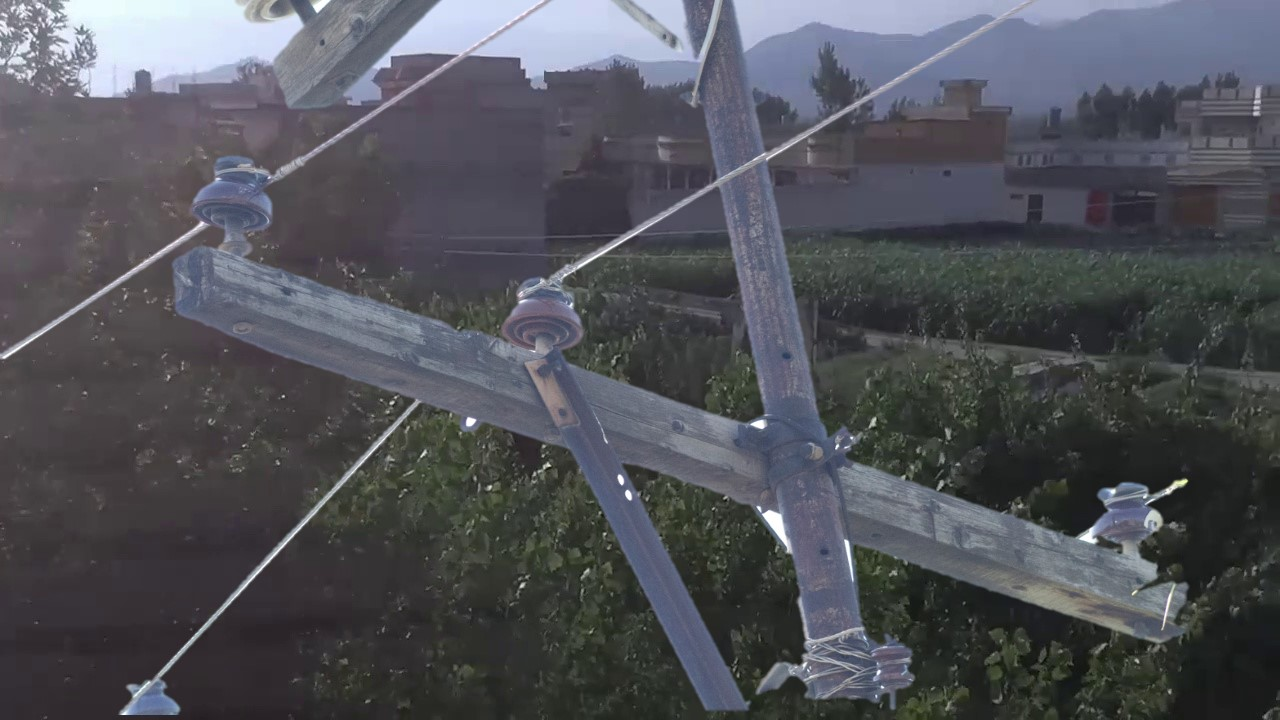defect_pin: (1090, 474, 1171, 550)
insulator_pin: (189, 150, 286, 242), (498, 270, 592, 359)
